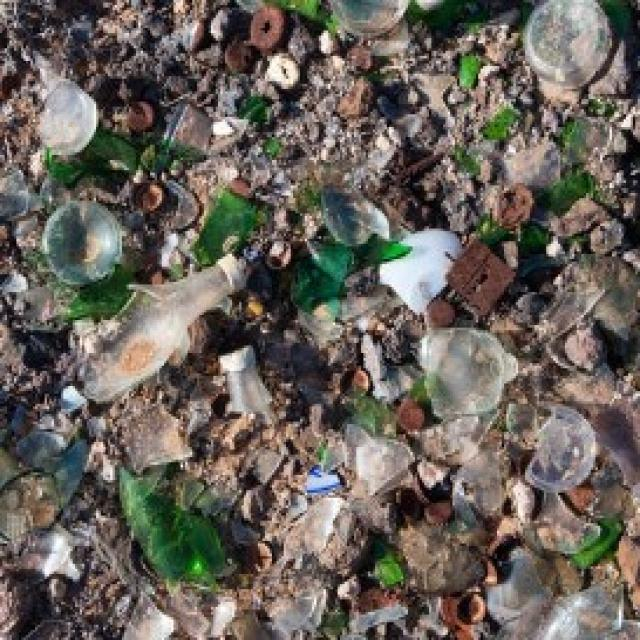electronic: (46, 185, 418, 590)
